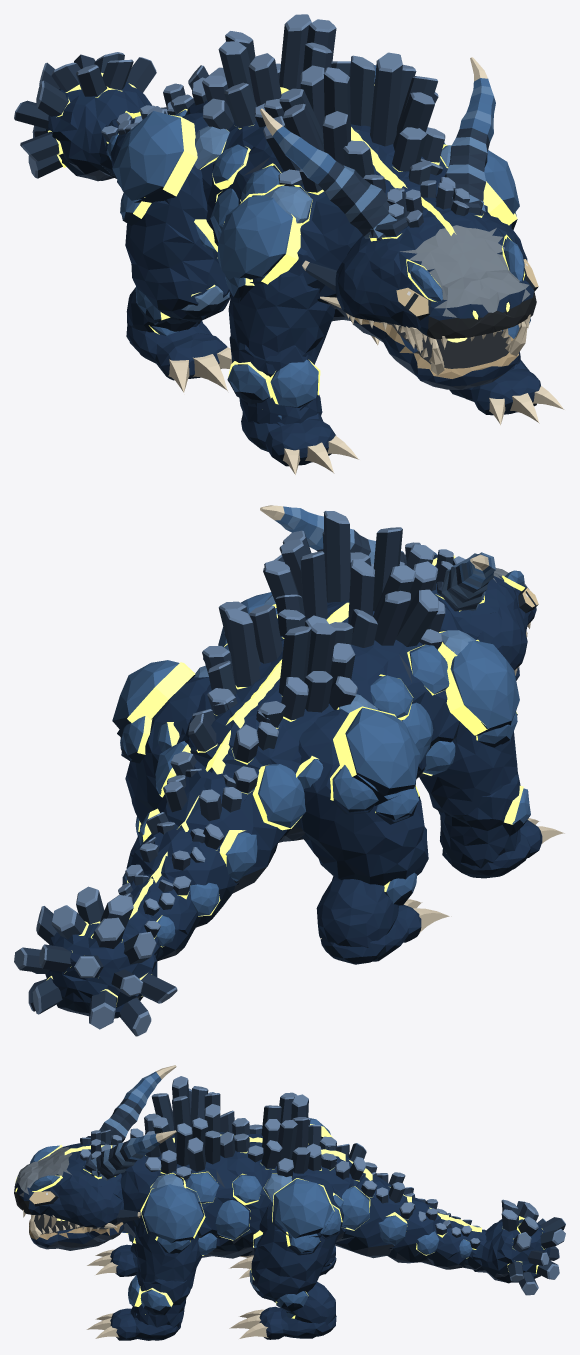
The model's file is Basaltor_Roblox_Partes.fbx.
3 views of the same model, one above another, from view 1: azimuth 30°, elevation 25°; view 2: azimuth 150°, elevation 25°; view 3: azimuth 270°, elevation 25° (orthographic). The views are drawn at different scales.
Parts seen in each view (by area): view 1: Lomo, Craneo, PataTra_Der_Muslo, Torso, PataDel_Der_Brazo, Cola_Mazo, Cuernos, Mandibula, PataDel_Der_Antebrazo, PataTra_Der_Pie, PataDel_Der_Mano, PataTra_Der_Pierna (+16 smaller); view 2: Lomo, PataTra_Der_Muslo, Torso, Cola_Mazo, Cola_1, PataDel_Der_Brazo, Cola_2, PataTra_Izq_Muslo, PataTra_Der_Pierna, PataDel_Der_Antebrazo, Craneo, Cola_3 (+10 smaller); view 3: Lomo, Torso, PataTra_Izq_Muslo, Craneo, PataDel_Izq_Brazo, Cola_Mazo, Cola_1, Cuernos, Cola_2, PataDel_Izq_Antebrazo, Mandibula, Cola_3 (+9 smaller).
Boxes of the visible parts, box(x1,y1,x2,y2) form: Lomo: box(202, 14, 445, 195); Craneo: box(335, 177, 536, 339); PataTra_Der_Muslo: box(112, 111, 231, 322); Torso: box(185, 100, 451, 321); PataDel_Der_Brazo: box(217, 195, 334, 377); Cola_Mazo: box(14, 52, 165, 181); Cuernos: box(260, 57, 495, 308); Mandibula: box(350, 317, 527, 389); PataDel_Der_Antebrazo: box(227, 336, 322, 424); PataTra_Der_Pie: box(126, 320, 227, 380); PataDel_Der_Mano: box(241, 413, 335, 466); PataTra_Der_Pierna: box(126, 285, 229, 332); Lomo: box(202, 511, 445, 727); PataTra_Der_Muslo: box(298, 707, 428, 885); Torso: box(157, 595, 476, 842); Cola_Mazo: box(14, 886, 177, 1036); Cola_1: box(155, 700, 305, 893); PataDel_Der_Brazo: box(419, 641, 519, 817); Cola_2: box(130, 768, 257, 927); PataTra_Izq_Muslo: box(112, 660, 210, 823); PataTra_Der_Pierna: box(316, 872, 416, 947); PataDel_Der_Antebrazo: box(438, 774, 530, 868); Craneo: box(399, 542, 536, 670); Cola_3: box(122, 821, 219, 961); Lomo: box(144, 1076, 336, 1180); Torso: box(120, 1132, 353, 1258); PataTra_Izq_Muslo: box(251, 1175, 343, 1301); Craneo: box(14, 1129, 123, 1227); PataDel_Izq_Brazo: box(134, 1184, 204, 1291); Cola_Mazo: box(472, 1199, 565, 1295); Cola_1: box(328, 1143, 407, 1258); Cuernos: box(85, 1065, 176, 1228); Cola_2: box(371, 1172, 441, 1263); PataDel_Izq_Antebrazo: box(128, 1267, 190, 1327); Mandibula: box(29, 1215, 124, 1250); Cola_3: box(405, 1192, 468, 1269).
Size of the model in its own units: 2.09 by 2.33 by 5.35.
Materials: 2 (1 with a texture image).
